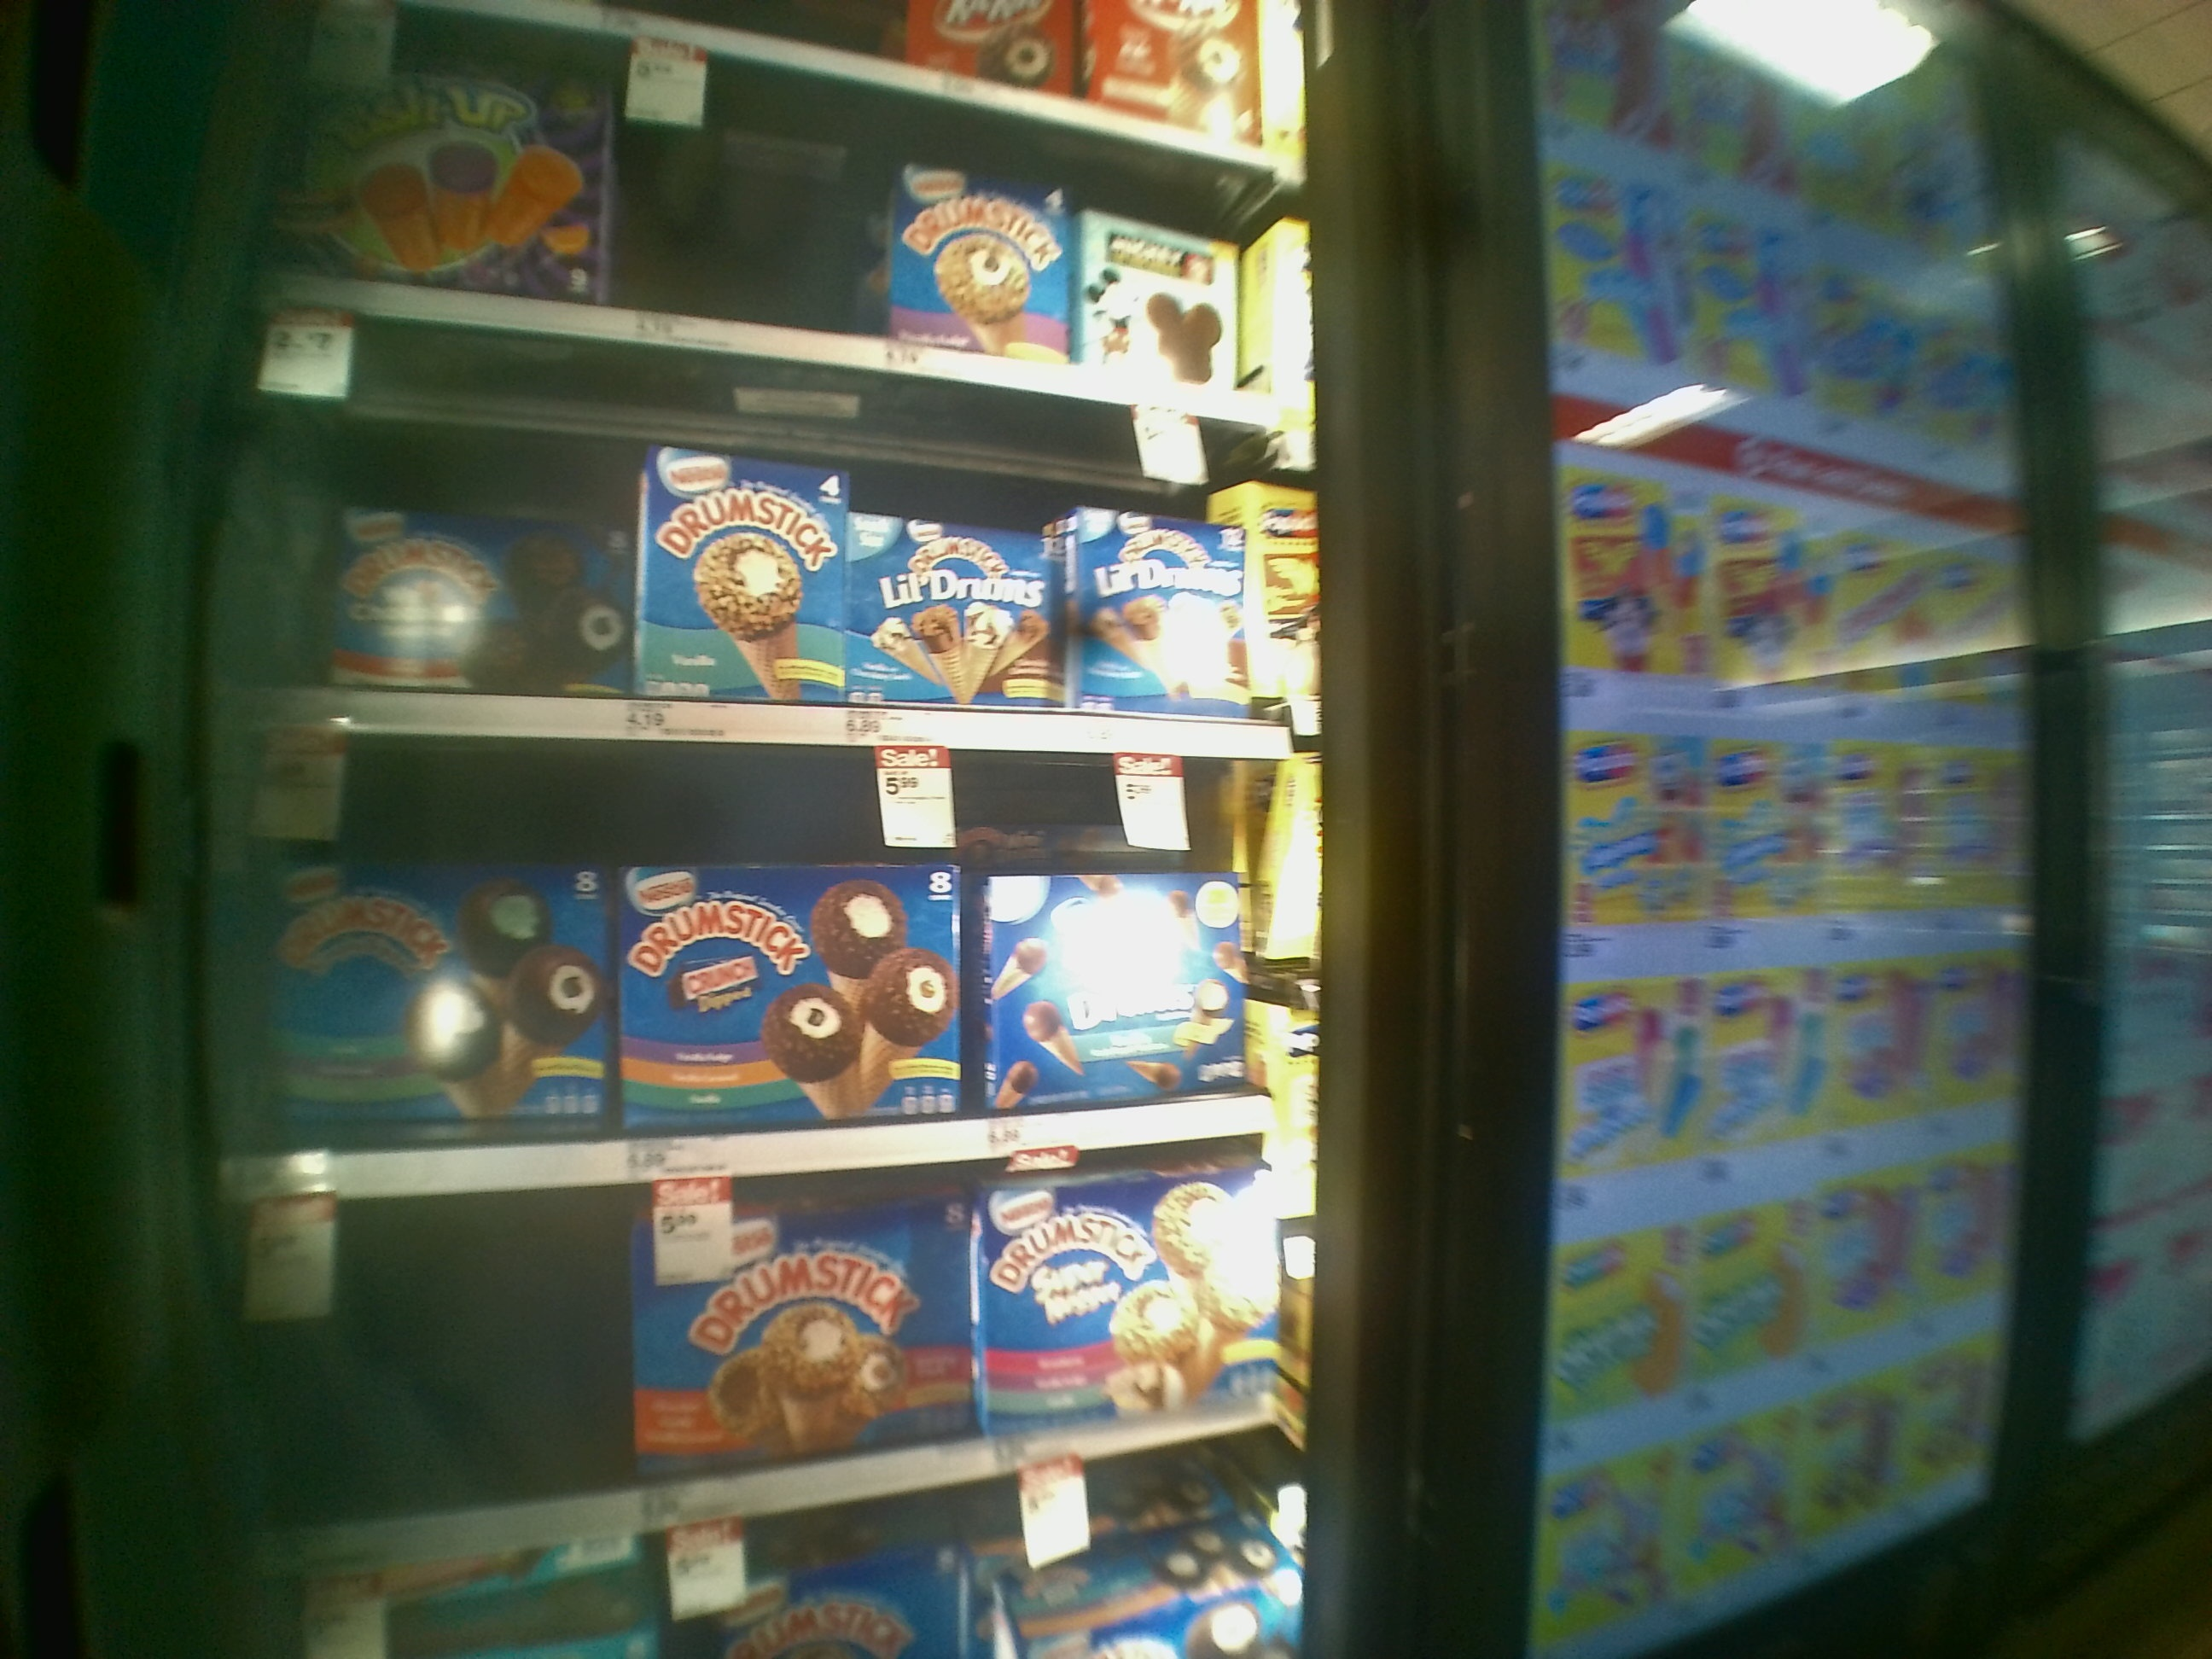shelf: (256, 727, 1289, 1194), (286, 310, 1305, 744), (261, 1138, 1308, 1556)
